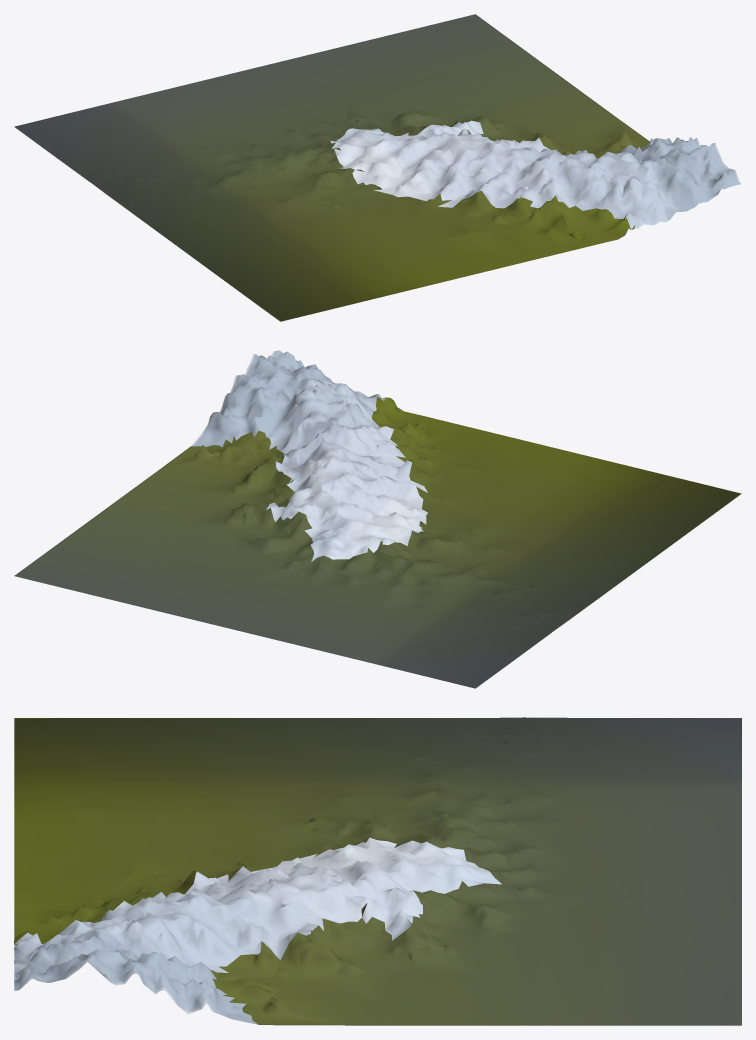
Rendered from Terrain_50000.obj.
3 views of the same model, one above another, from view 1: azimuth 30°, elevation 25°; view 2: azimuth 150°, elevation 25°; view 3: azimuth 270°, elevation 25° (orthographic). The views are drawn at different scales.
Visible parts, largest first — view 1: default, default.001; view 2: default, default.001; view 3: default, default.001.
Boxes of the visible parts, <box> form: default: <box>14,14,649,321</box>; default.001: <box>330,120,741,229</box>; default: <box>14,396,741,688</box>; default.001: <box>191,350,427,561</box>; default: <box>14,717,741,1025</box>; default.001: <box>14,837,501,1024</box>.
Size of the model in its own units: 5008 by 486 by 5001.
2 materials, 2 textured.
